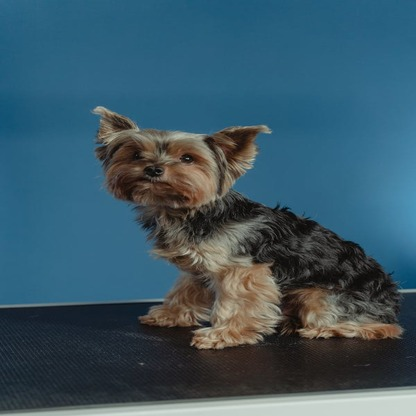yorkshire: (89, 104, 409, 350)
